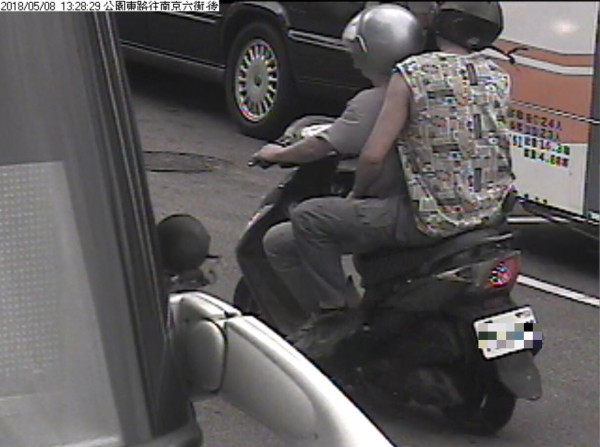helmet: (343, 15, 419, 77), (427, 1, 508, 43)
